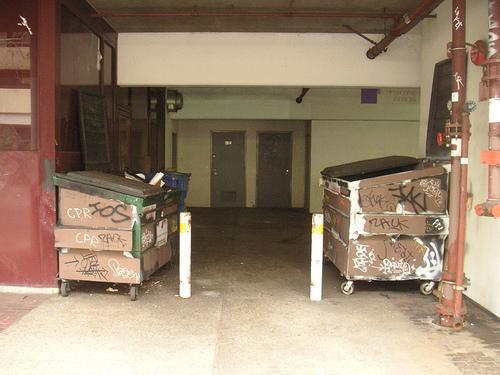Bote de Basura: (135, 169, 190, 241)
